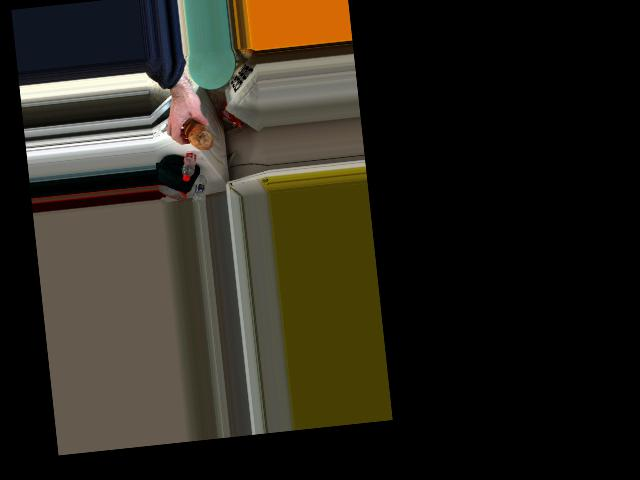sweet_potato: (183, 116, 213, 153)
